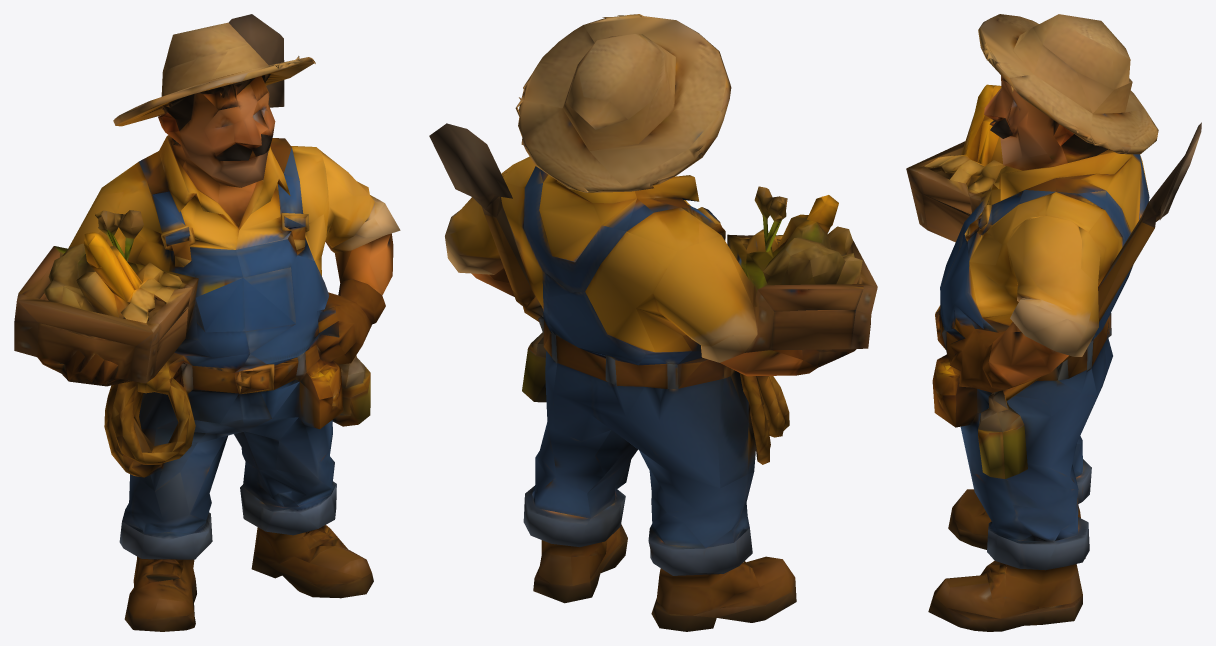
File: demo_hunter_01.glb
3 renders of one model, left to right at view 1: azimuth 30°, elevation 25°; view 2: azimuth 150°, elevation 25°; view 3: azimuth 270°, elevation 25°, orthographic. The views are drawn at different scales.
Visible parts, largest first — view 1: node_0; view 2: node_0; view 3: node_0.
Boxes of the visible parts, bbox=[...] form: node_0: bbox=[14, 14, 400, 631]; node_0: bbox=[429, 14, 877, 631]; node_0: bbox=[906, 14, 1201, 631].
Size of the model in its own units: 0.7843 by 1.05 by 0.5001.
Materials: 1 (1 with a texture image).
